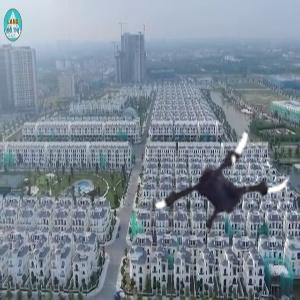drone: (150, 106, 295, 251)
